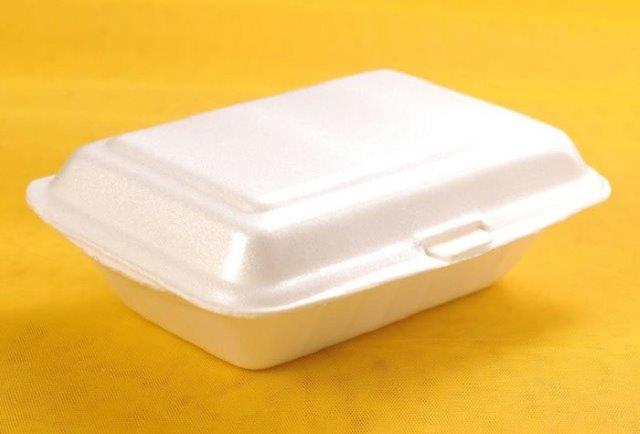sterofoam: (38, 71, 611, 367)
